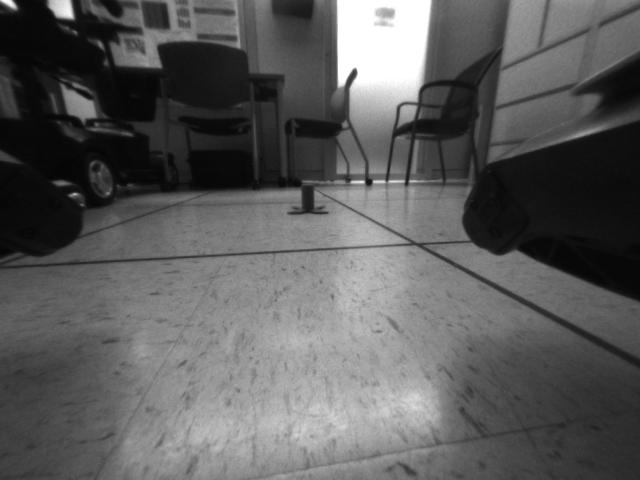X: (288, 181, 329, 216)
